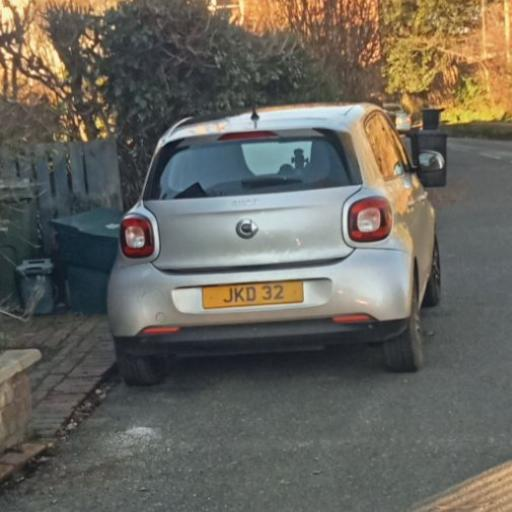numberplates: (202, 281, 304, 309)
